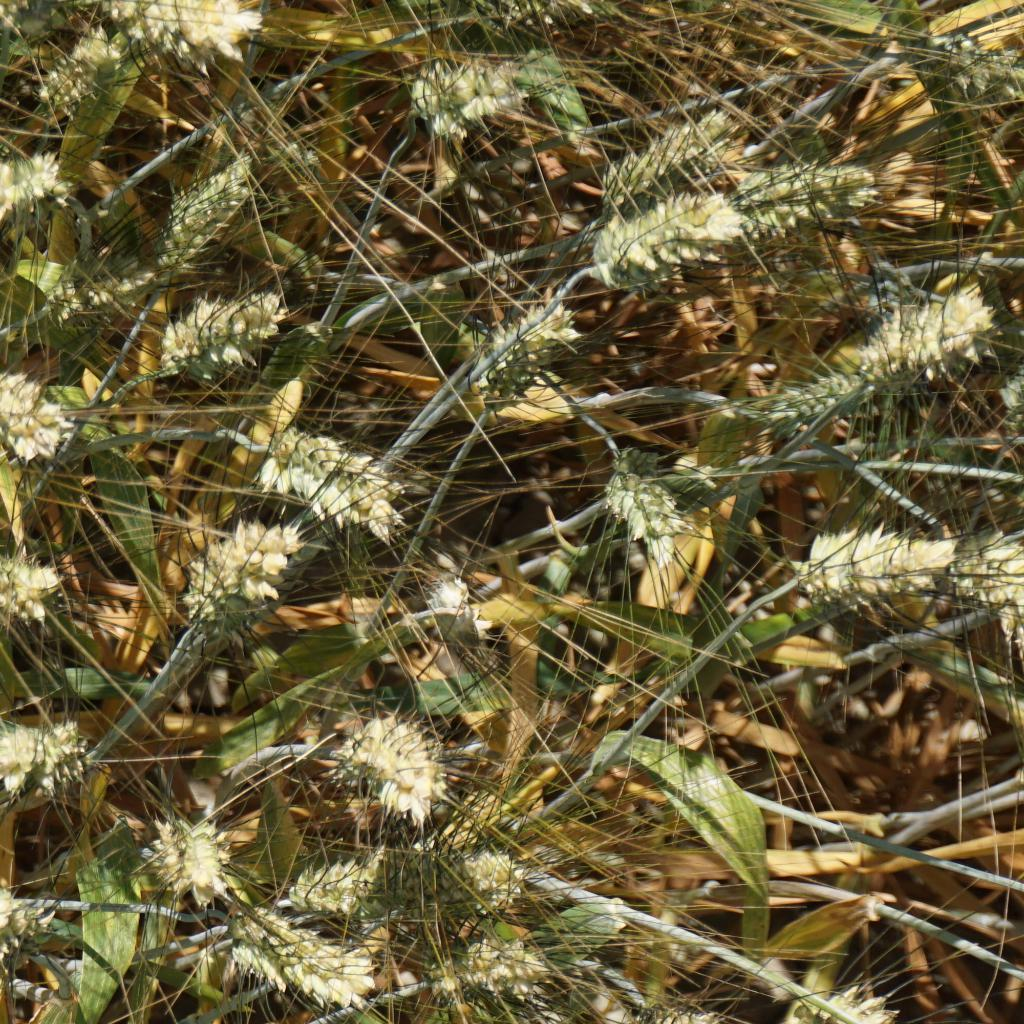0-0: (194, 893, 373, 1020), (585, 107, 758, 236), (693, 156, 895, 261), (581, 177, 747, 301), (786, 513, 955, 626), (250, 425, 406, 544), (851, 272, 1004, 380), (135, 294, 296, 395), (600, 444, 704, 600), (468, 292, 578, 427), (397, 38, 534, 141), (173, 512, 301, 617), (41, 242, 172, 340), (141, 147, 258, 256), (337, 717, 453, 819), (861, 255, 934, 404), (0, 352, 92, 465), (22, 36, 122, 135), (770, 963, 918, 1024), (139, 809, 230, 907), (745, 361, 860, 436), (921, 25, 1024, 105), (284, 847, 395, 918), (431, 934, 544, 1001), (0, 711, 86, 798), (442, 841, 534, 922), (947, 527, 1024, 623), (0, 128, 73, 224), (427, 570, 502, 646), (256, 135, 332, 193), (0, 555, 60, 627), (608, 990, 726, 1024), (0, 875, 38, 973)
